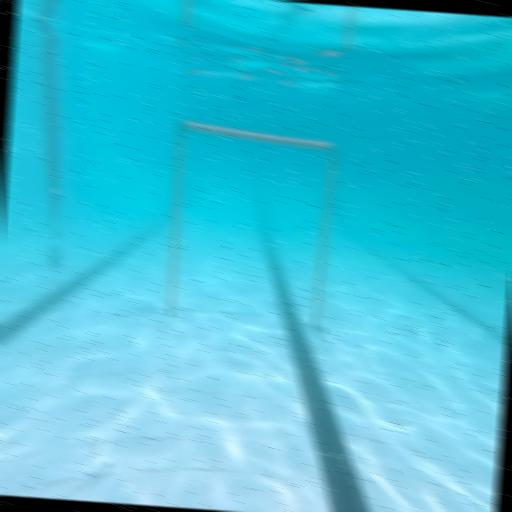gate: (162, 118, 341, 334)
